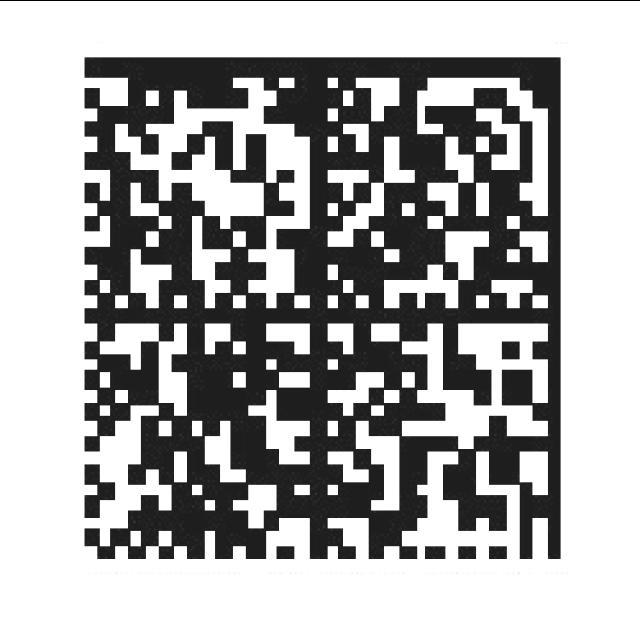Data-Matrix: (72, 43, 578, 571)
